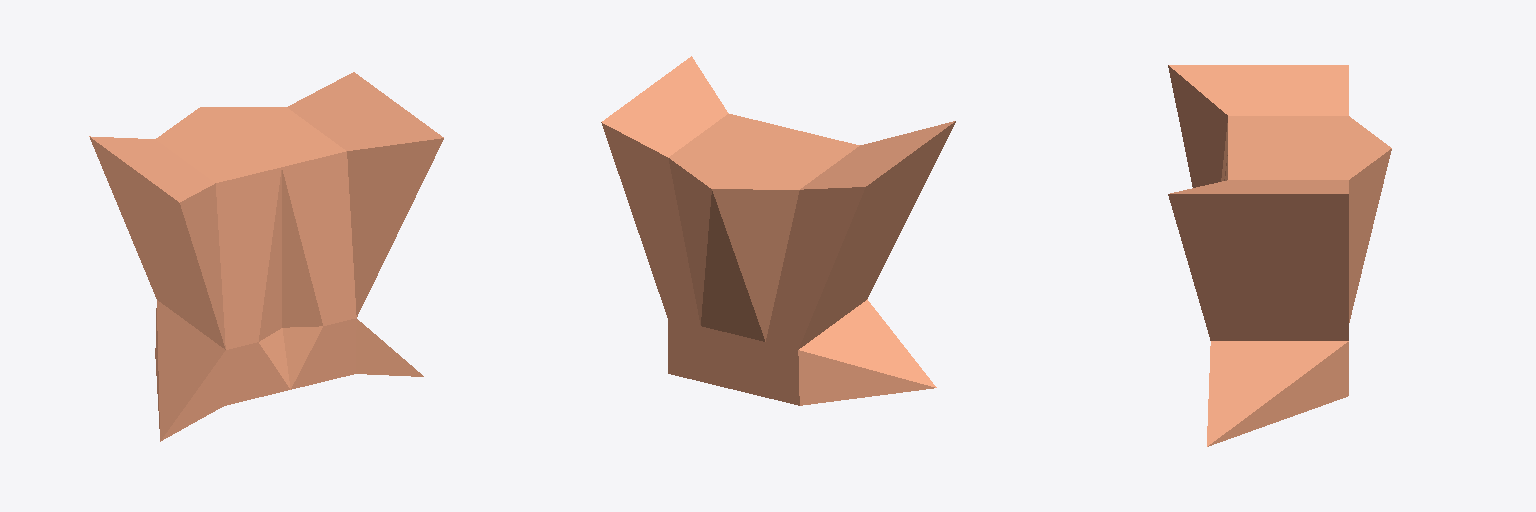
3 views of the same model, side by side, from view 1: azimuth 30°, elevation 25°; view 2: azimuth 150°, elevation 25°; view 3: azimuth 270°, elevation 25° (orthographic).
Parts seen in each view (by area): view 1: 立方体_立方体.002; view 2: 立方体_立方体.002; view 3: 立方体_立方体.002.
Boxes of the visible parts, x1,y1,x2,y2 form: 立方体_立方体.002: [89, 72, 443, 441]; 立方体_立方体.002: [601, 56, 955, 405]; 立方体_立方体.002: [1168, 65, 1391, 446].
Size of the model in its own units: 1.6 by 1.46 by 1.17.
Materials: 1 (1 with a texture image).